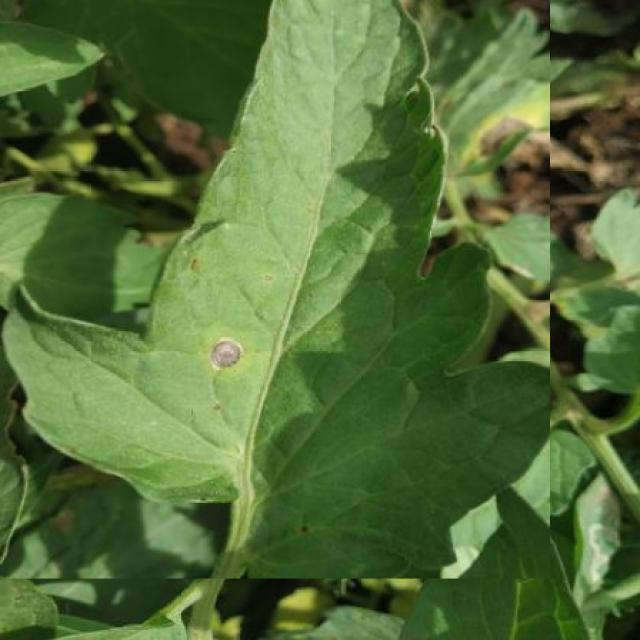Early Blight: (0, 0, 550, 579)
